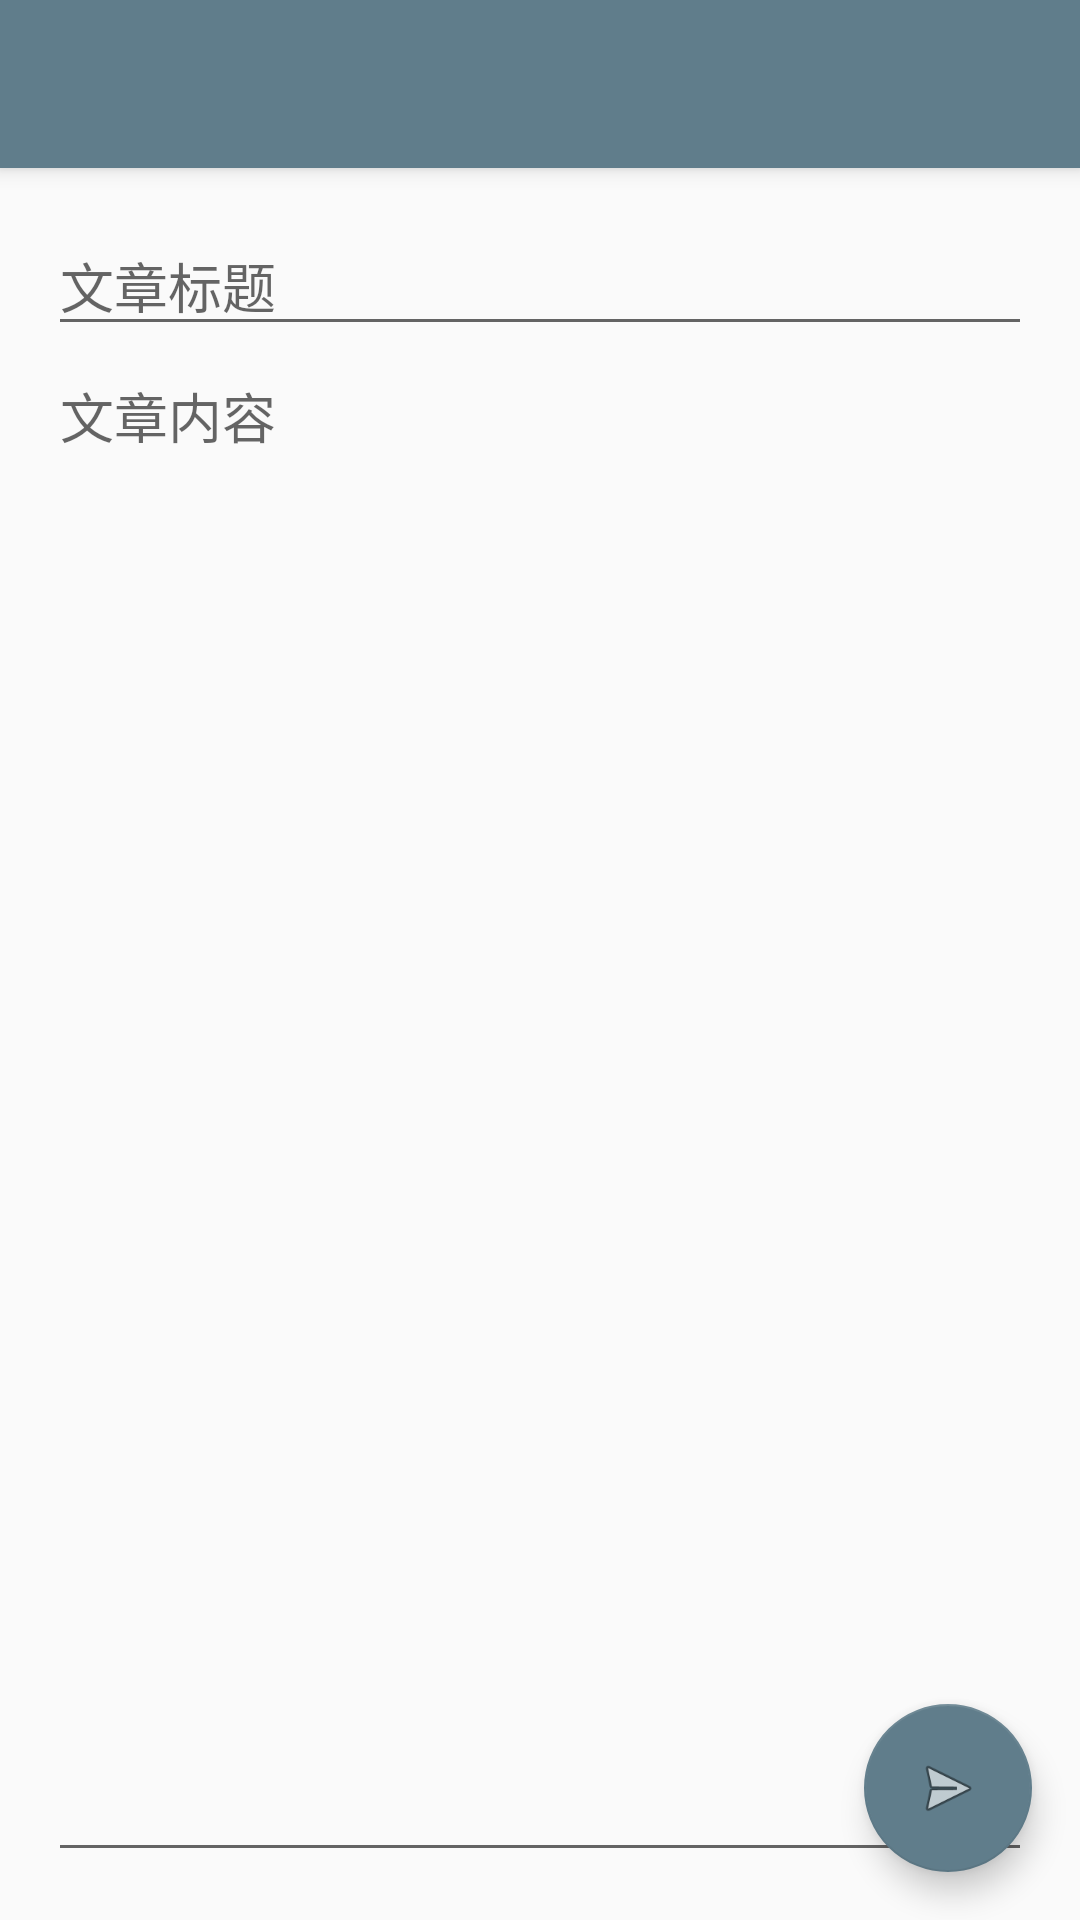

Icon bounding boxes for this 1080 x 1920 phone screenshot, format (x1=x1, y1=y1, x2=x2, y2=y2):
send: (x1=864, y1=1704, x2=1032, y2=1872)
